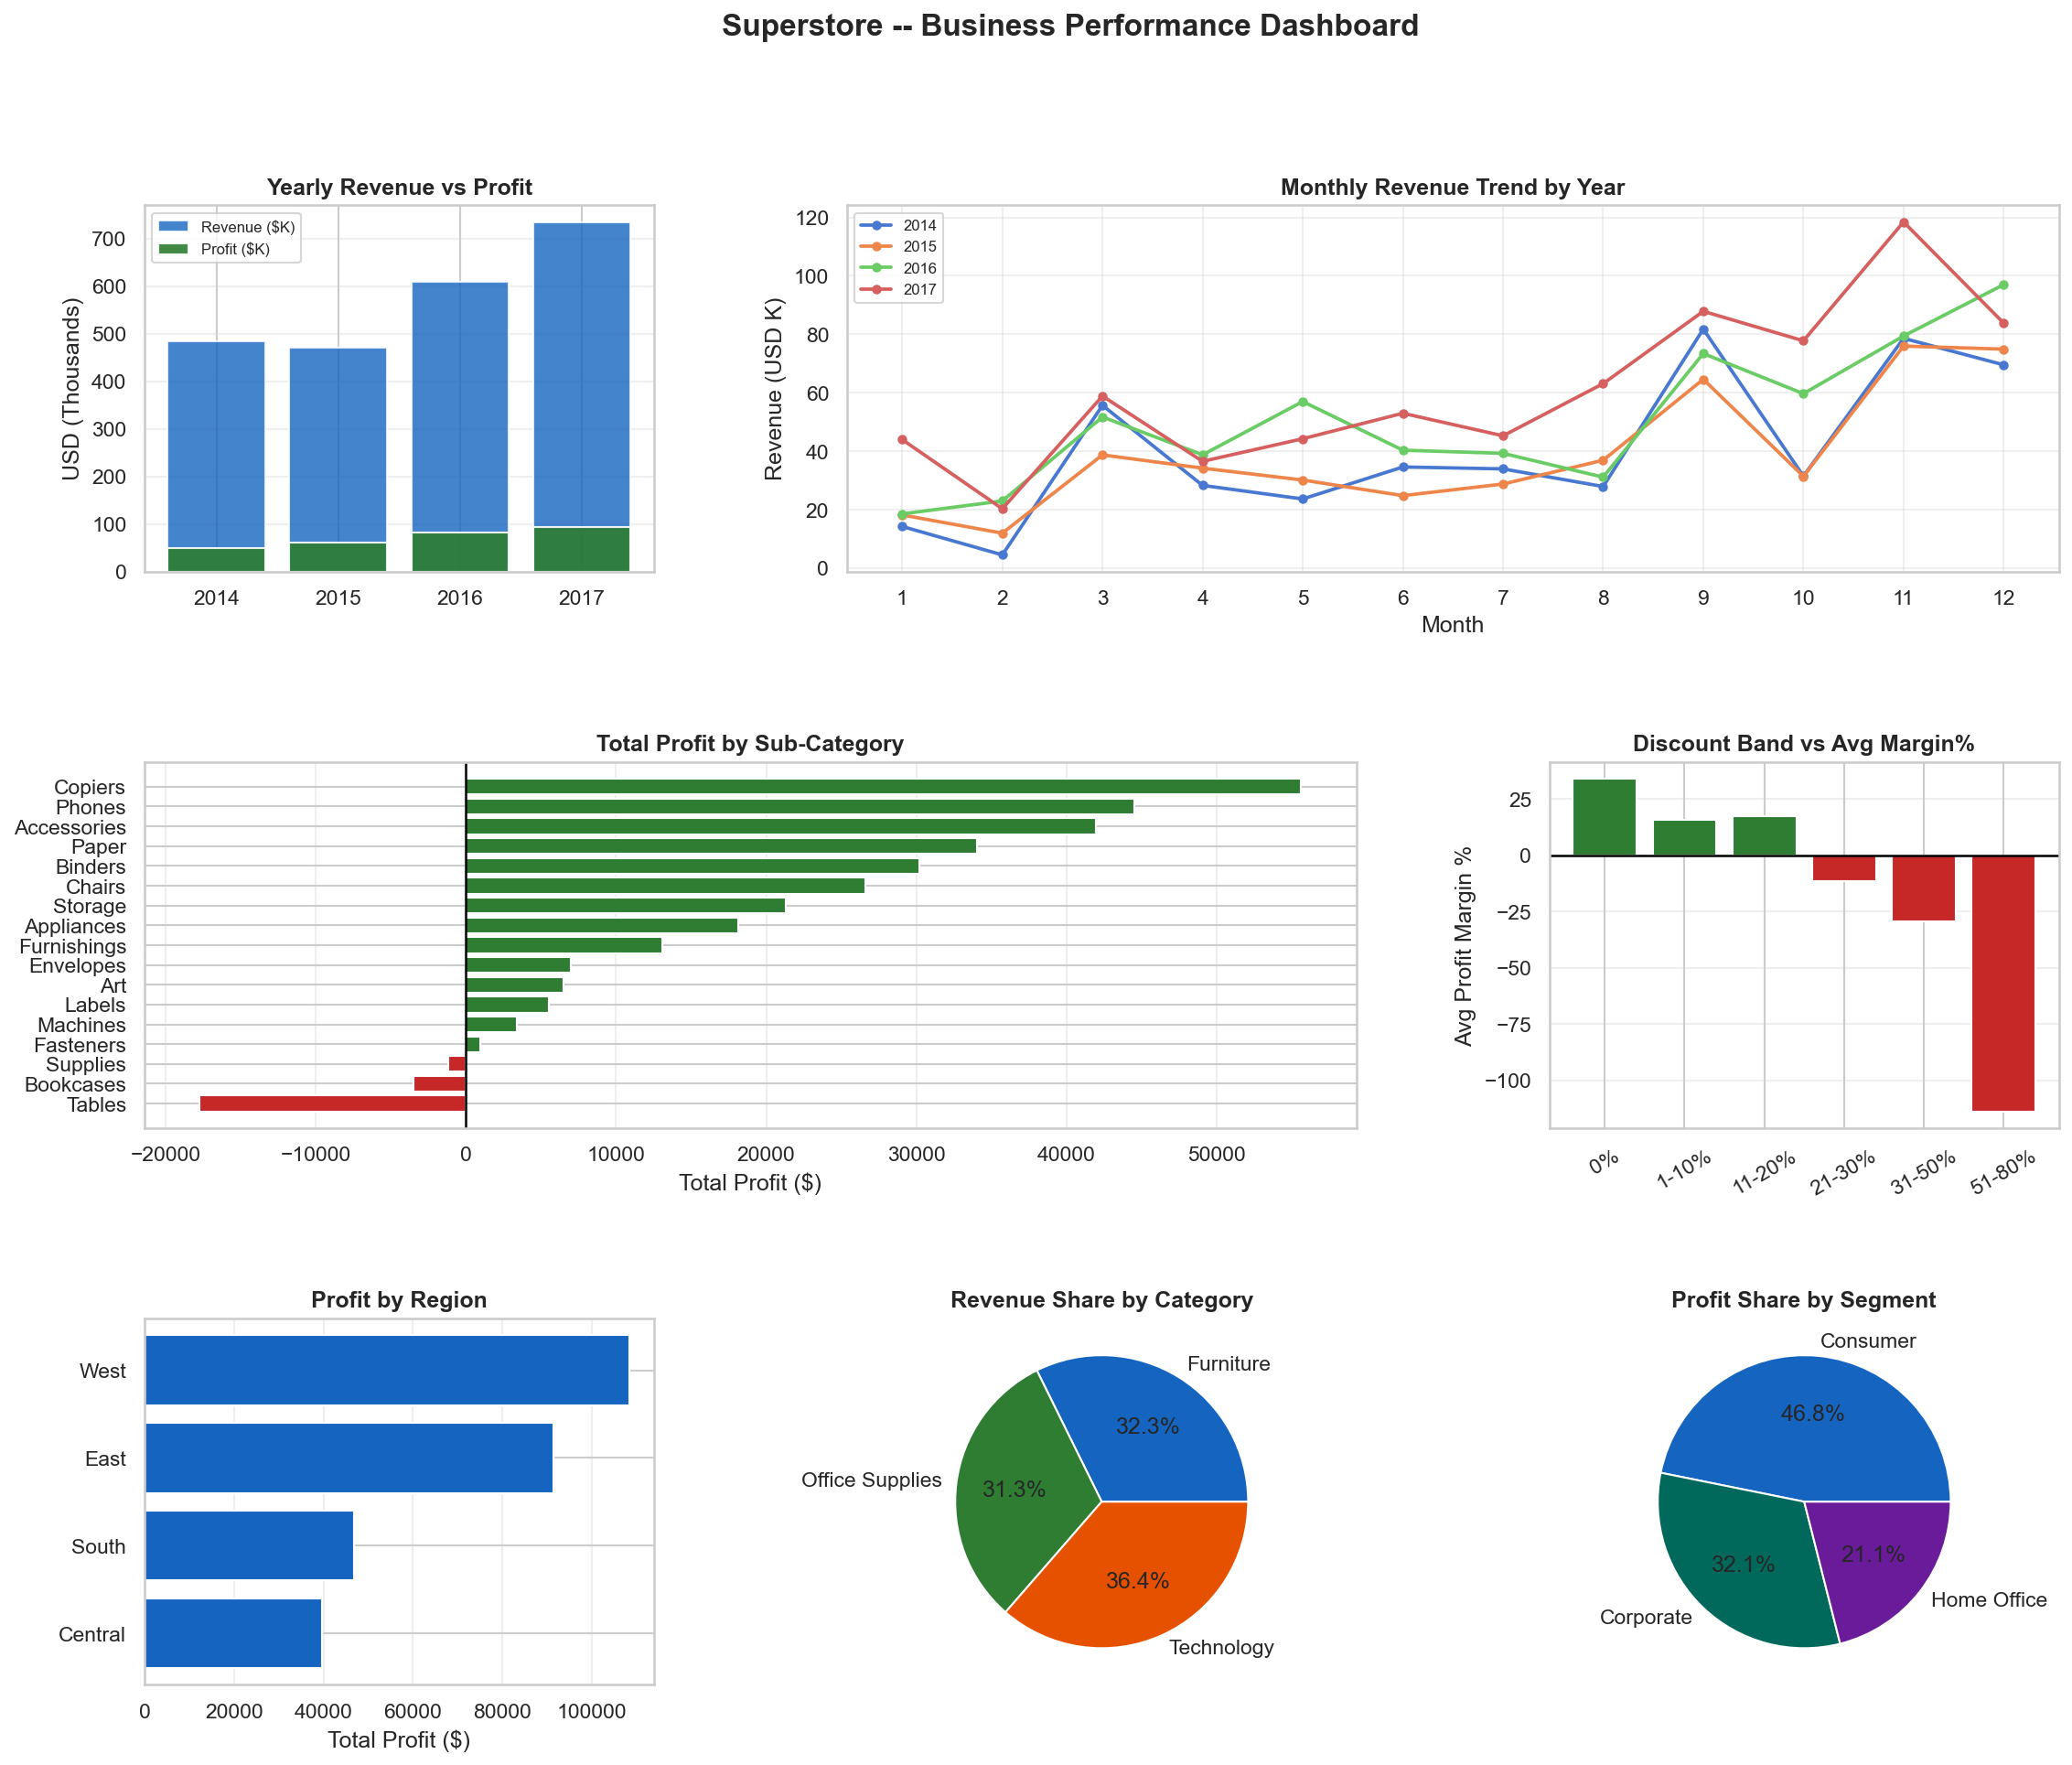

What the dashboard file says about the page in this screenshot:
{"tool":"powerbi","page":{"name":"Superstore sales","canvas":[1280,720],"ordinal":0},"visuals":[{"type":"card","fields":{"Values":["Sum(superstore_preprocessed.Sales)"]},"box":[398.1,0,200,130],"z":0},{"type":"card","fields":{"Values":["Sum(superstore_preprocessed.Profit)"]},"box":[619.8,0,200,130],"z":1000},{"type":"card","fields":{"Values":["superstore_preprocessed.PM"]},"box":[839.9,0,200,130],"z":2000},{"type":"card","fields":{"Values":["Count(superstore_preprocessed.Order ID)"]},"box":[1059.9,0,200,130],"z":3000},{"type":"lineChart","title":"Revenue Trend 2014 - 2017","fields":{"Category":["superstore_preprocessed.Year"],"Y":["Sum(superstore_preprocessed.Sales)"]},"box":[587.8,155.8,382,249.8],"z":4000},{"type":"clusteredBarChart","title":"Profit by Sub-Category","fields":{"Category":["superstore_preprocessed.Sub-Category"],"Y":["Sum(superstore_preprocessed.Profit)"]},"box":[587.8,443.8,382,255.7],"z":5000},{"type":"clusteredColumnChart","title":"Discount Band vs Avg Profit Margin %","fields":{"Category":["superstore_preprocessed.Disc_Band"],"Y":["superstore_preprocessed.Avg Discount Margin %"]},"box":[216,443.8,348.2,255.7],"z":6000},{"type":"donutChart","title":"Revenue Share by Category","fields":{"Category":["superstore_preprocessed.Category"],"Y":["Sum(superstore_preprocessed.Sales)"]},"box":[991.1,156.2,268.8,248.6],"z":7000},{"type":"clusteredBarChart","title":"Revenue by Customer Segment (RFM)","fields":{"Category":["superstore_rfm.RFM_Segment"],"Y":["Sum(superstore_rfm.Monetary)"]},"box":[216,155.8,348.2,249.8],"z":8000},{"type":"slicer","fields":{"Values":["superstore_preprocessed.Category"]},"box":[0,332.6,200,150],"z":9000},{"type":"slicer","title":"Region","fields":{"Values":["superstore_preprocessed.Region"]},"box":[0,156.2,200,150],"z":10000},{"type":"slicer","title":"Year","fields":{"Values":["superstore_preprocessed.Year"]},"box":[0,509,200,150],"z":11000},{"type":"donutChart","title":"ML Model: Predicted Order Outcomes","fields":{"Category":["superstore_profit_predictions.Predicted_Label"],"Y":["CountNonNull(superstore_profit_predictions.Predicted_Label)"]},"box":[991.1,443.5,268.8,255.3],"z":12000},{"type":"textbox","box":[0,0,386.4,129.3],"z":13000}]}

Visuals, with their boxes on the page's 1280x720 design canvas (x1, y1, x2, y2). These are canvas units, not pixel positions in the 2072x1765 screenshot, which may show the page scaled, cropped or inside an application window:
card - Sum(superstore_preprocessed.Sales): {"x1": 398, "y1": 0, "x2": 598, "y2": 130}
card - Sum(superstore_preprocessed.Profit): {"x1": 620, "y1": 0, "x2": 820, "y2": 130}
card - superstore_preprocessed.PM: {"x1": 840, "y1": 0, "x2": 1040, "y2": 130}
card - Count(superstore_preprocessed.Order ID): {"x1": 1060, "y1": 0, "x2": 1260, "y2": 130}
"Revenue Trend 2014 - 2017" lineChart: {"x1": 588, "y1": 156, "x2": 970, "y2": 406}
"Profit by Sub-Category" clusteredBarChart: {"x1": 588, "y1": 444, "x2": 970, "y2": 700}
"Discount Band vs Avg Profit Margin %" clusteredColumnChart: {"x1": 216, "y1": 444, "x2": 564, "y2": 700}
"Revenue Share by Category" donutChart: {"x1": 991, "y1": 156, "x2": 1260, "y2": 405}
"Revenue by Customer Segment (RFM)" clusteredBarChart: {"x1": 216, "y1": 156, "x2": 564, "y2": 406}
slicer - superstore_preprocessed.Category: {"x1": 0, "y1": 333, "x2": 200, "y2": 483}
"Region" slicer: {"x1": 0, "y1": 156, "x2": 200, "y2": 306}
"Year" slicer: {"x1": 0, "y1": 509, "x2": 200, "y2": 659}
"ML Model: Predicted Order Outcomes" donutChart: {"x1": 991, "y1": 444, "x2": 1260, "y2": 699}
textbox: {"x1": 0, "y1": 0, "x2": 386, "y2": 129}
